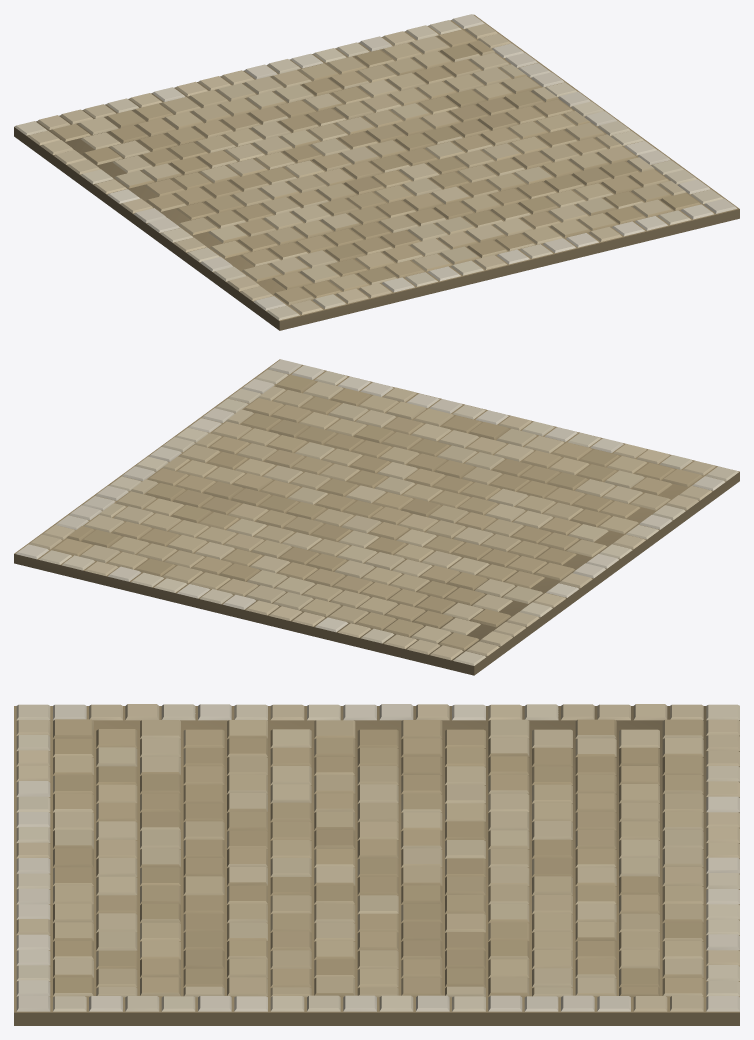
The model's file is plaza_paving.glb.
3 renders of one model, top to bottom at view 1: azimuth 30°, elevation 25°; view 2: azimuth 150°, elevation 25°; view 3: azimuth 270°, elevation 25°, orthographic. The views are drawn at different scales.
Visible parts, largest first — view 1: plaza_paving_mesh; view 2: plaza_paving_mesh; view 3: plaza_paving_mesh.
Boxes of the visible parts, box(x1,y1,x2,y2) form: plaza_paving_mesh: box(14, 14, 739, 330); plaza_paving_mesh: box(14, 359, 739, 675); plaza_paving_mesh: box(14, 704, 739, 1025).
Bounding box in the file's own units: 10 × 0.2419 × 10.
